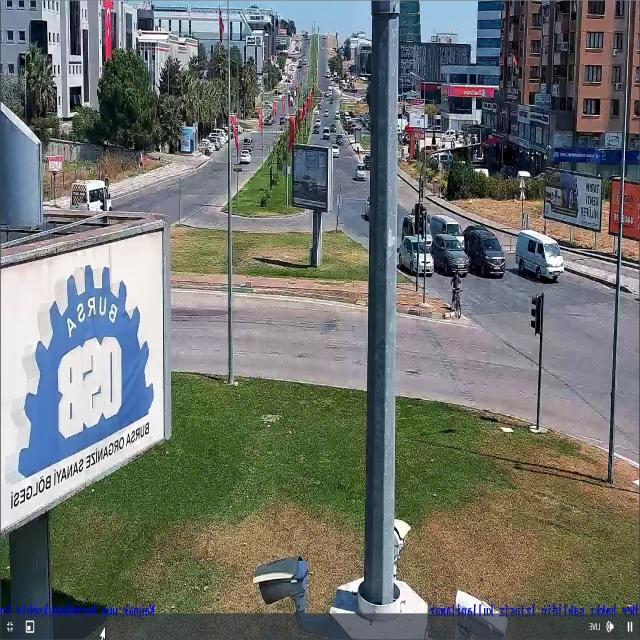car: (515, 231, 564, 279), (464, 225, 505, 276), (431, 234, 470, 276), (398, 235, 434, 274), (430, 215, 461, 236), (352, 162, 366, 181), (239, 150, 250, 163), (244, 139, 252, 144)
cyclist: (451, 274, 462, 317)
minivan: (72, 180, 111, 211)
traffic-lights: (530, 294, 542, 334)
